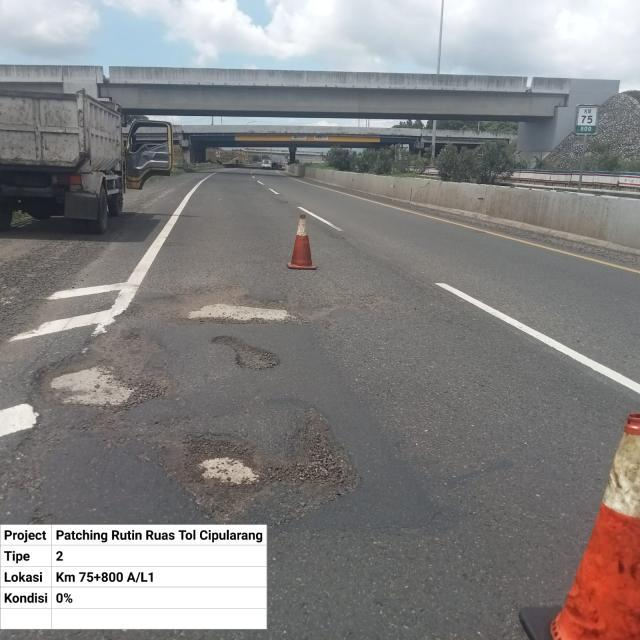Buraco: (0, 282, 365, 526)
